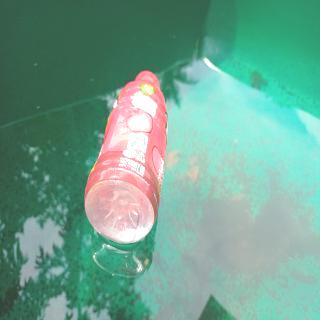bottle: (81, 68, 170, 246)
